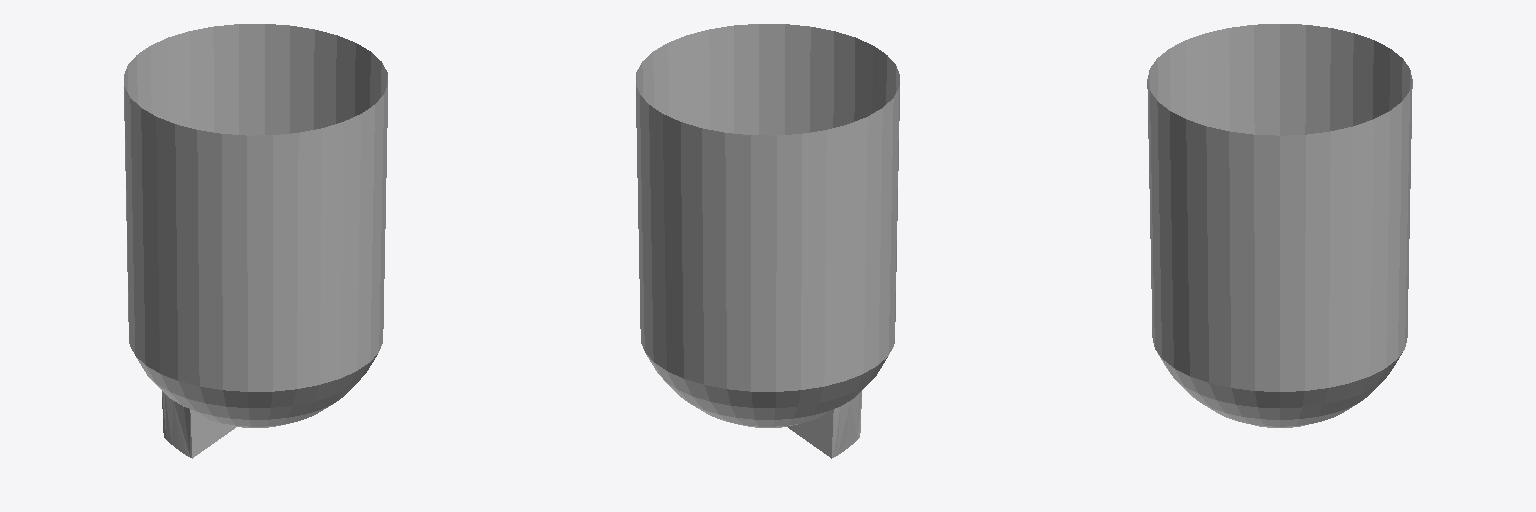
Rendered from level_bowl.obj.
3 views of the same model, side by side, from view 1: azimuth 30°, elevation 25°; view 2: azimuth 150°, elevation 25°; view 3: azimuth 270°, elevation 25° (orthographic).
Parts seen in each view (by area): view 1: Cylinder; view 2: Cylinder; view 3: Cylinder.
Boxes of the visible parts, x1=… form: Cylinder: x1=124, y1=24, x2=387, y2=458; Cylinder: x1=636, y1=24, x2=899, y2=458; Cylinder: x1=1147, y1=24, x2=1412, y2=427.
Bounding box in the file's own units: 17.3 × 25.38 × 17.3.